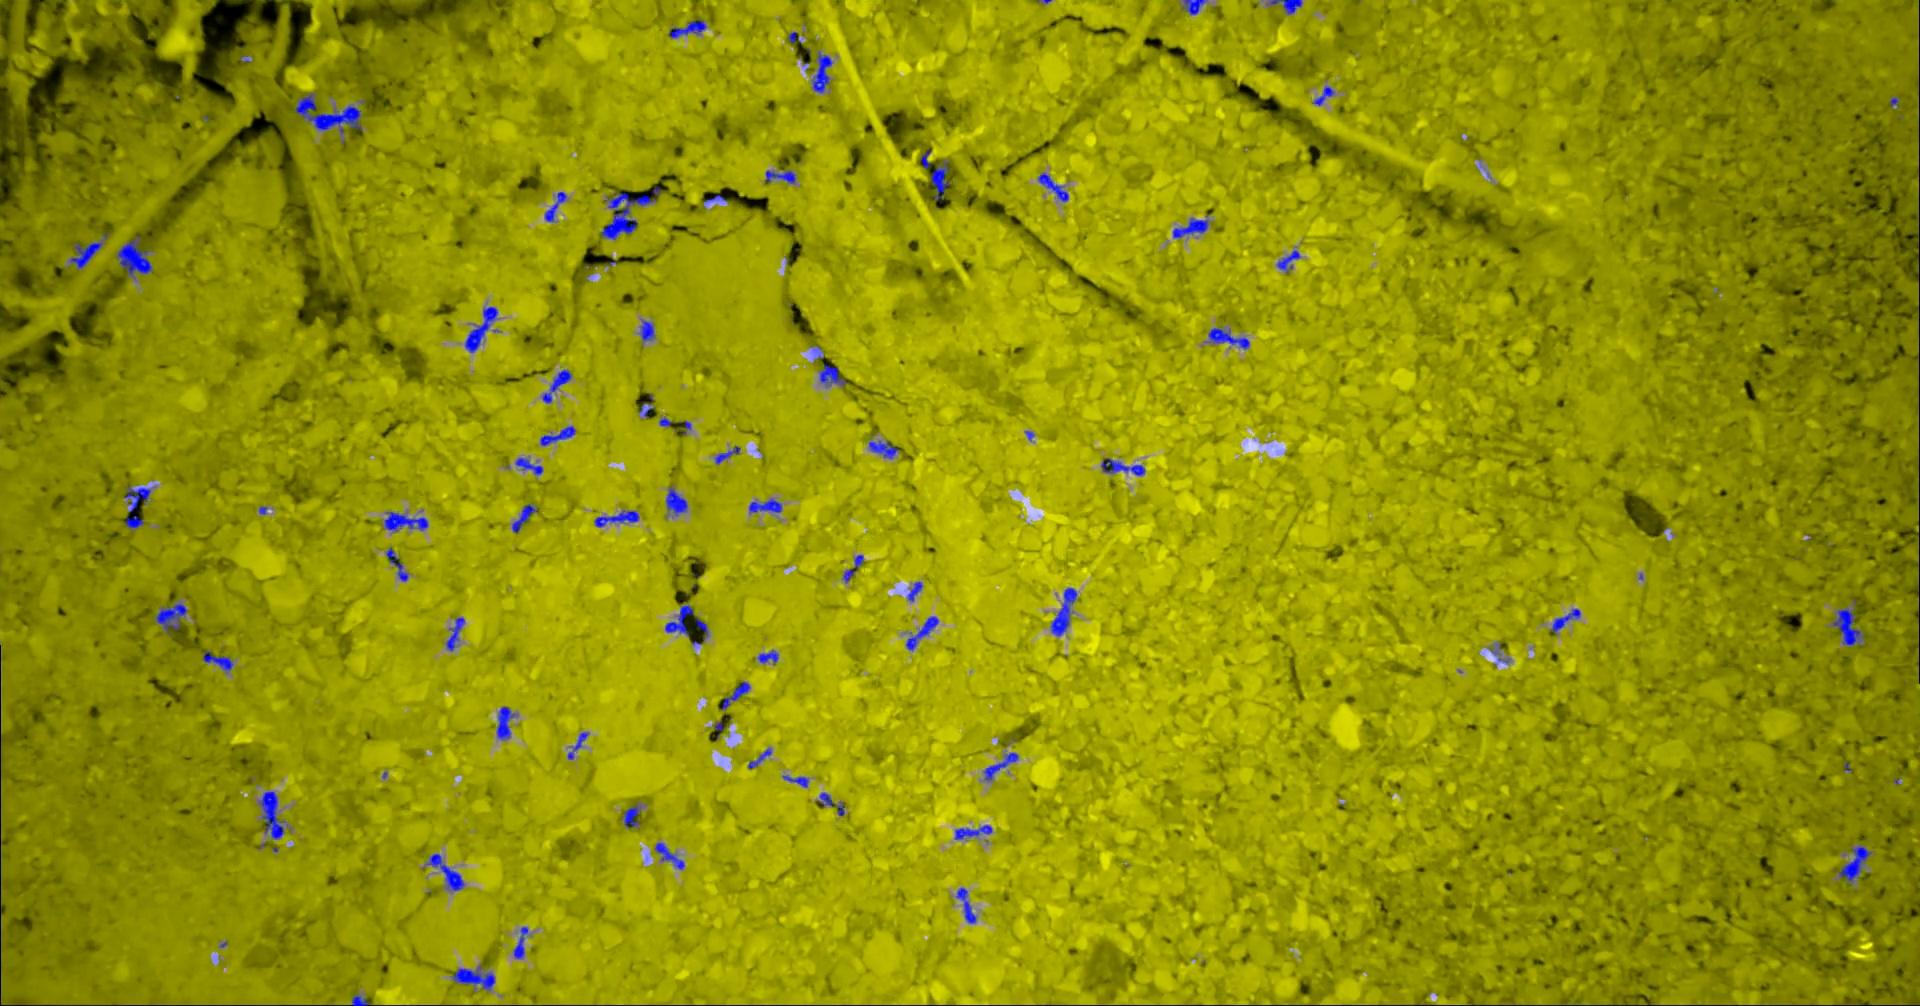ant: (599, 185, 660, 239), (295, 93, 361, 133), (463, 306, 497, 352), (116, 235, 151, 276), (425, 854, 463, 890), (259, 791, 287, 840), (1050, 587, 1076, 635), (1839, 845, 1870, 883), (905, 615, 938, 650), (1832, 607, 1863, 645), (450, 967, 494, 989), (983, 752, 1018, 780), (664, 605, 695, 635), (542, 370, 571, 401), (1208, 326, 1250, 348), (1037, 171, 1068, 201), (155, 603, 185, 633), (69, 241, 102, 268), (383, 511, 427, 530), (1172, 215, 1208, 238), (654, 842, 684, 869), (1100, 457, 1144, 475), (721, 681, 749, 709), (510, 503, 537, 532), (811, 51, 830, 91), (930, 161, 949, 199), (594, 511, 637, 527), (386, 547, 408, 580), (1550, 608, 1580, 633), (538, 426, 575, 445), (956, 887, 975, 923), (543, 191, 566, 221), (668, 19, 706, 37), (444, 617, 463, 652), (124, 486, 150, 512), (817, 793, 844, 815), (665, 486, 687, 514), (842, 554, 863, 582), (497, 706, 514, 739), (202, 650, 232, 669), (819, 363, 846, 385), (954, 824, 990, 840), (869, 439, 898, 459), (1276, 249, 1299, 273), (568, 732, 587, 760), (714, 445, 740, 464), (747, 748, 771, 768), (1269, 0, 1302, 14), (748, 498, 781, 512), (513, 926, 527, 958), (516, 457, 542, 474), (1312, 86, 1335, 105), (764, 170, 795, 183), (623, 805, 640, 827), (1182, 0, 1206, 14), (782, 775, 808, 788), (695, 619, 709, 641), (907, 580, 922, 601), (640, 320, 654, 340), (124, 514, 143, 528), (757, 650, 778, 662), (919, 149, 931, 168), (350, 995, 370, 1005)
